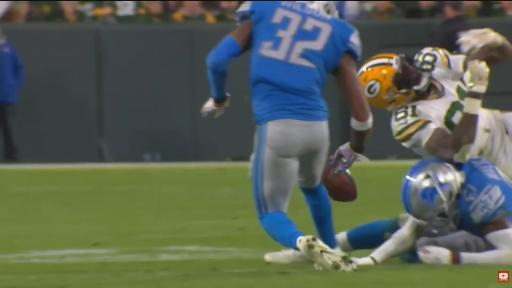Helmet: (402, 159, 463, 221), (359, 54, 420, 110), (300, 1, 338, 18)
Jersey: (236, 2, 361, 124), (391, 48, 467, 157), (391, 47, 466, 156), (457, 158, 511, 236)
Player: (202, 2, 372, 270), (359, 48, 511, 176), (337, 159, 511, 265), (354, 159, 511, 265), (360, 48, 471, 155)
